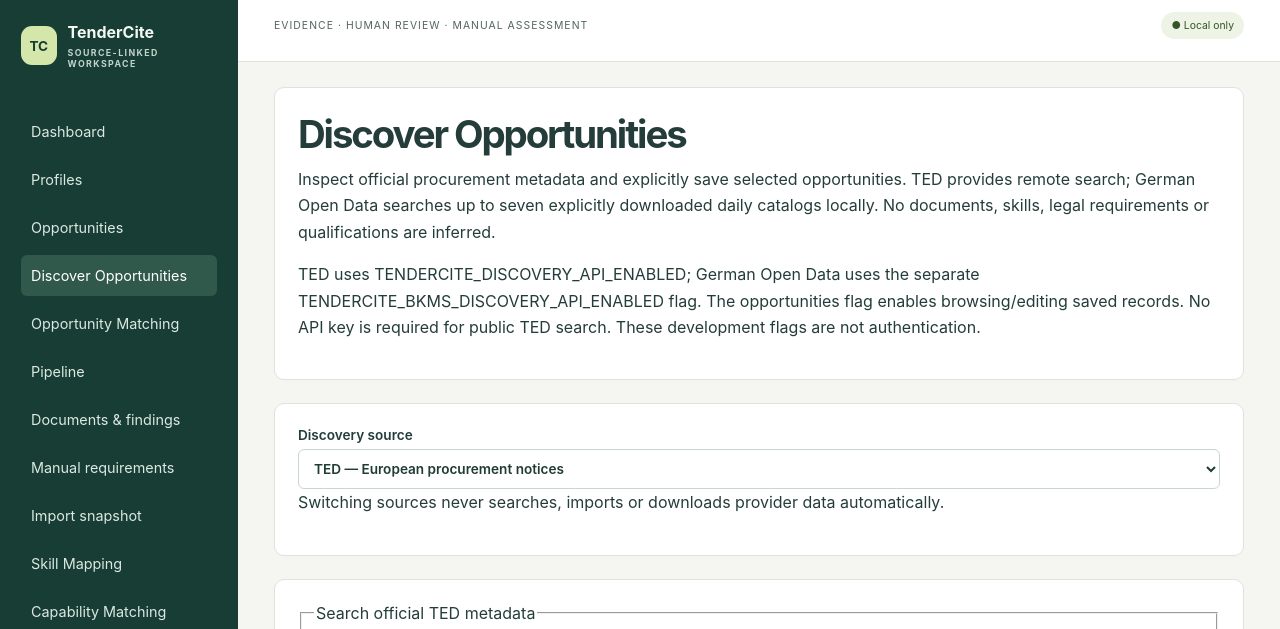
Test: lost import response is uncertain, safe and never retried automatically
Select "German Bekanntmachungsservice — public procurement" in the dropdown labelled "Discovery source" at (759, 469), box [298,449,1220,489]
(page scrolled)
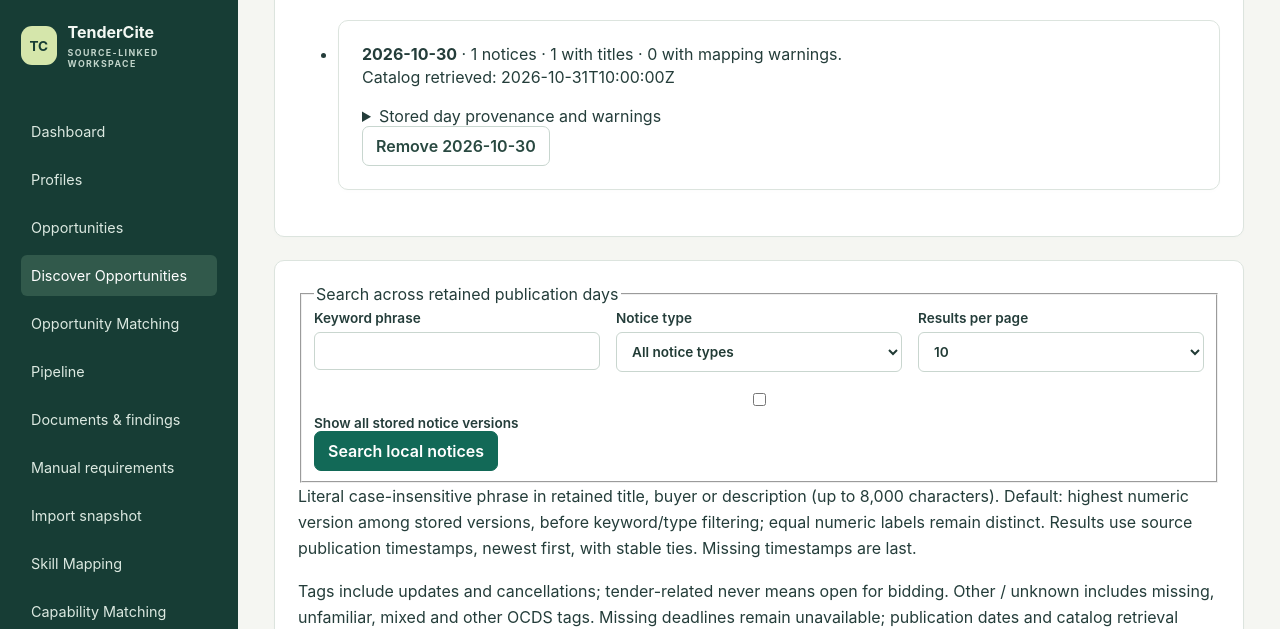
Now the button "Search local notices" is enabled, box [314,431,498,471]
Type "Software" into the field labelled "Keyword phrase" at (457, 351), box [314,332,600,370]
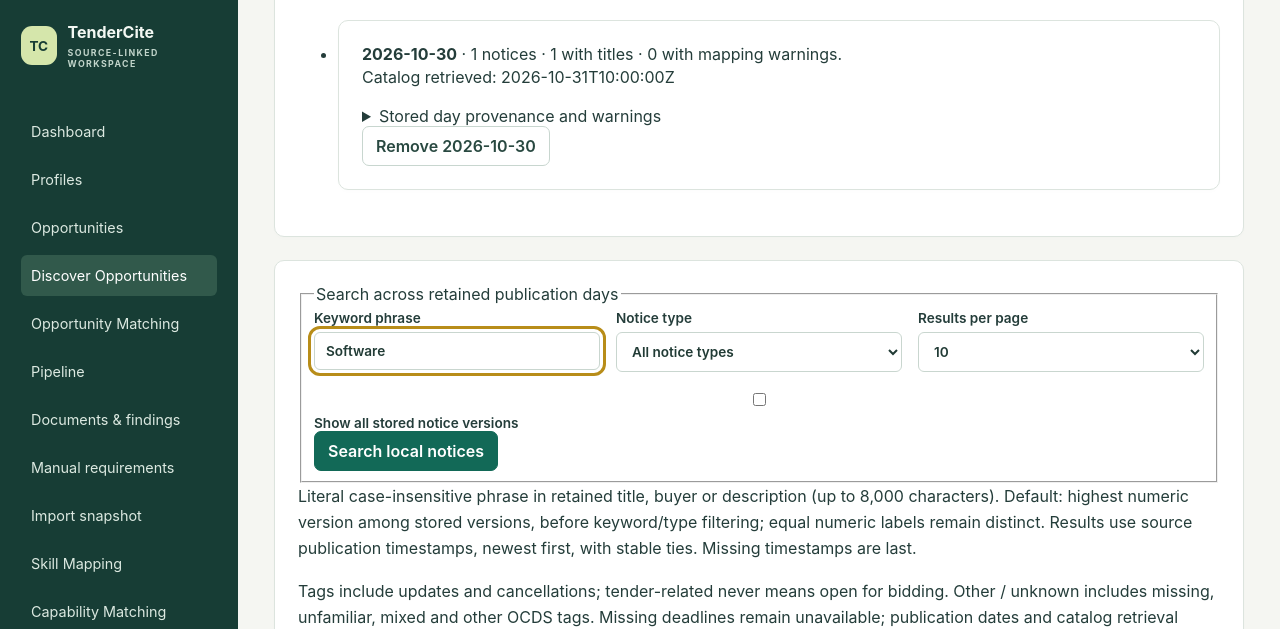
Click the button "Search local notices" at (406, 451), box [314,431,498,471]
(page scrolled)
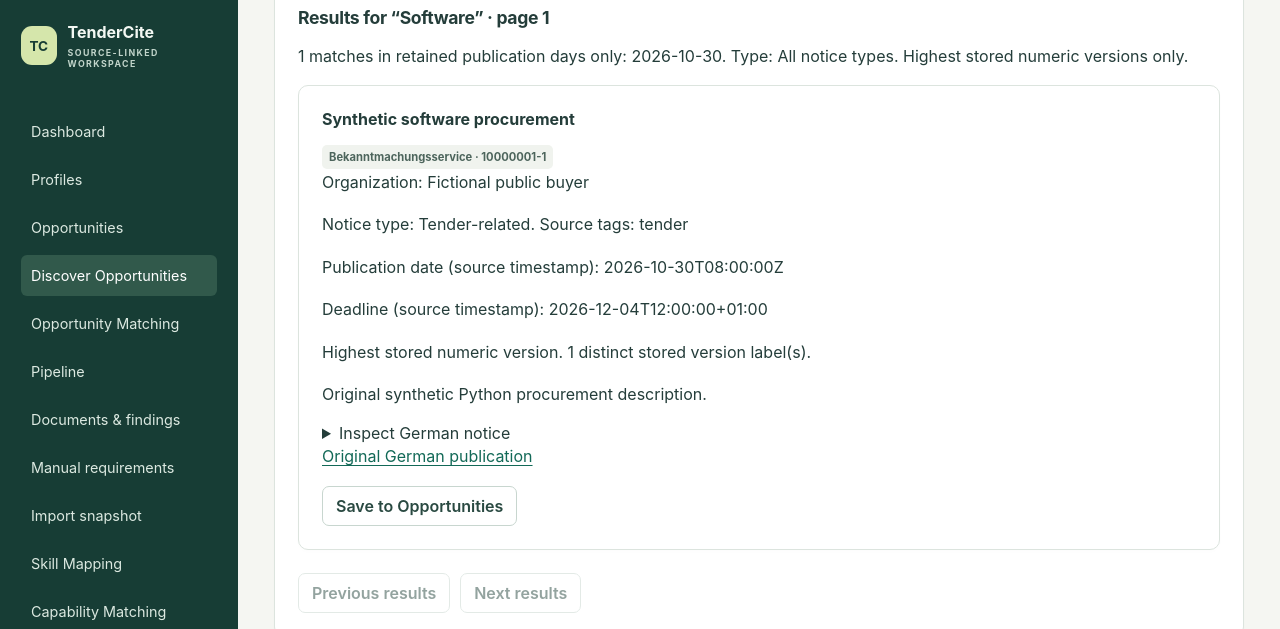
Now the heading "Synthetic software procurement" is shown, box [322,109,575,129]
Click the button "Save to Opportunities" at (420, 506), box [322,486,517,526]
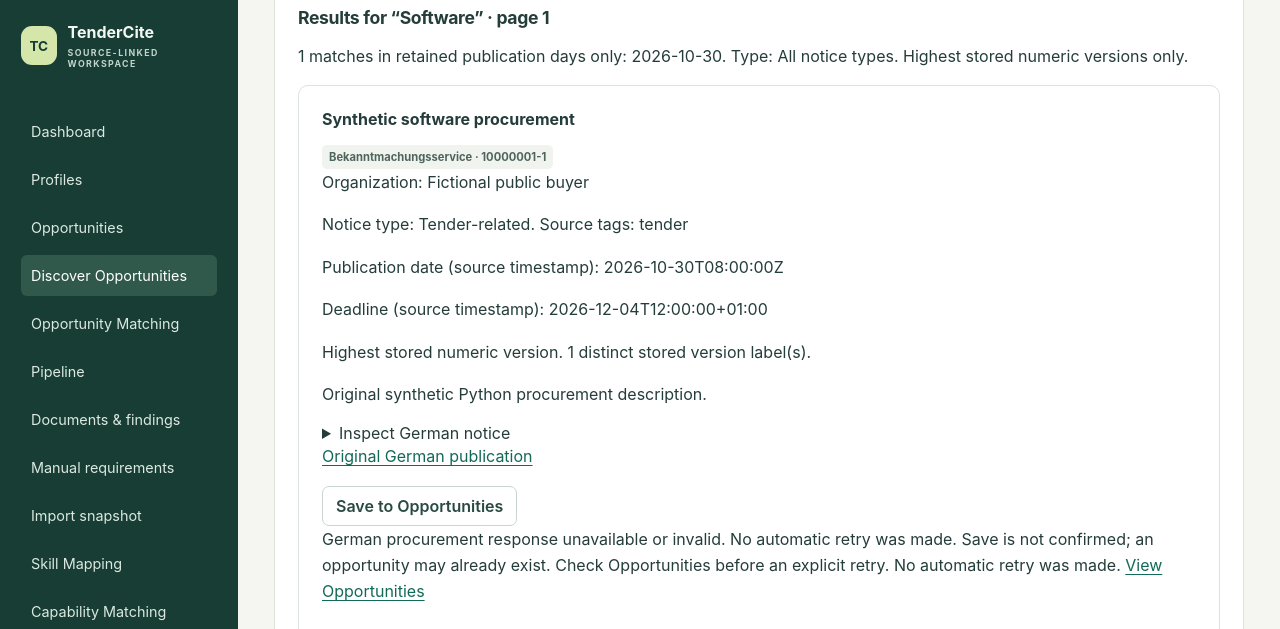
Expected: the message does not show "PRIVATE", [322,526,1196,605]
Now the heading "Synthetic software procurement" is shown, box [322,109,575,129]
Now the message shows "an opportunity may already exist", box [322,529,1154,575]
